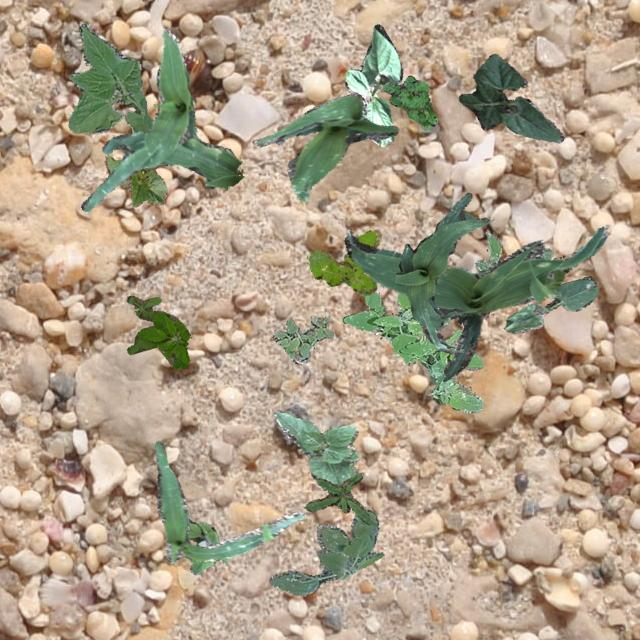crop: (343, 224, 608, 380), (80, 28, 242, 210), (153, 440, 304, 562), (250, 92, 398, 200), (393, 192, 488, 354), (458, 52, 562, 142), (68, 22, 152, 132), (344, 23, 402, 146), (274, 409, 358, 484), (502, 274, 598, 332), (104, 154, 166, 206)
weed: (342, 290, 482, 412), (268, 508, 382, 596), (126, 294, 190, 368), (308, 230, 380, 294), (303, 472, 371, 522), (379, 74, 436, 130), (474, 232, 552, 272), (272, 314, 332, 364), (187, 518, 227, 574)
